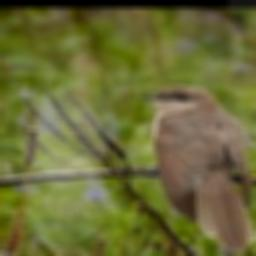Cuckoo: (138, 84, 256, 252)
